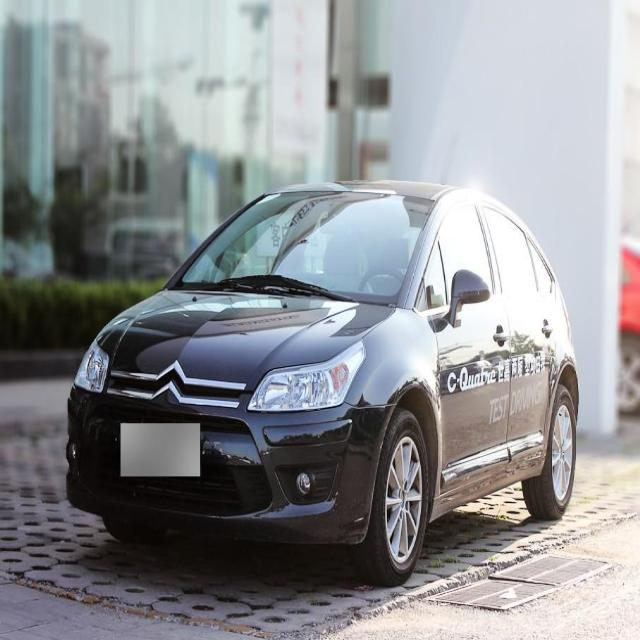door: (481, 202, 562, 464)
front_bumper: (65, 385, 395, 544)
front_glass: (178, 189, 438, 301)
front_left_side_door: (422, 198, 513, 514)
front_left_side_light: (246, 337, 365, 415)
front_left_side_mirror: (448, 267, 492, 320)
front_right_side_light: (72, 331, 111, 398)
wheel: (365, 410, 427, 586), (521, 379, 576, 516)
